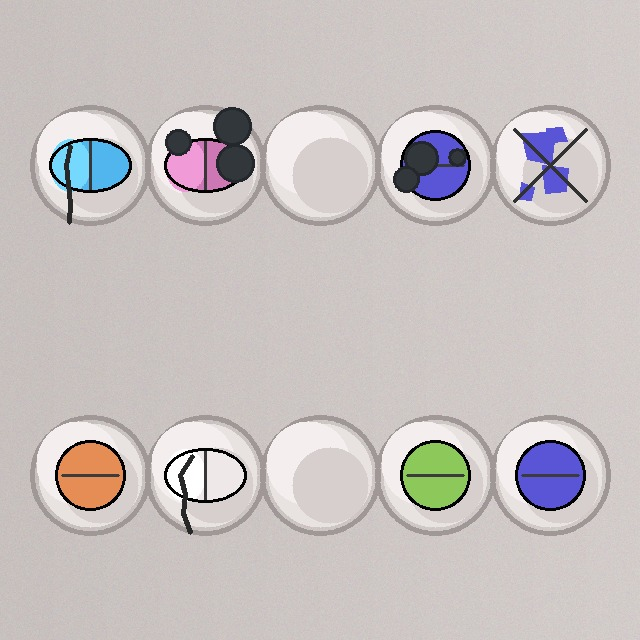broken: (488, 103, 612, 227)
crack: (28, 103, 152, 227), (143, 413, 267, 537)
missing: (258, 103, 382, 227), (258, 413, 382, 537)
stain: (143, 103, 267, 227), (373, 103, 497, 227)
